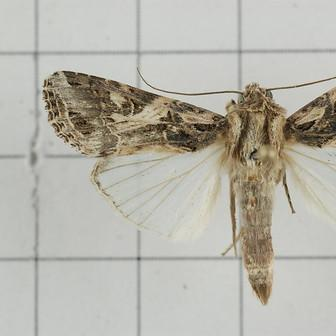Spodoptera litura: (42, 67, 336, 305)
